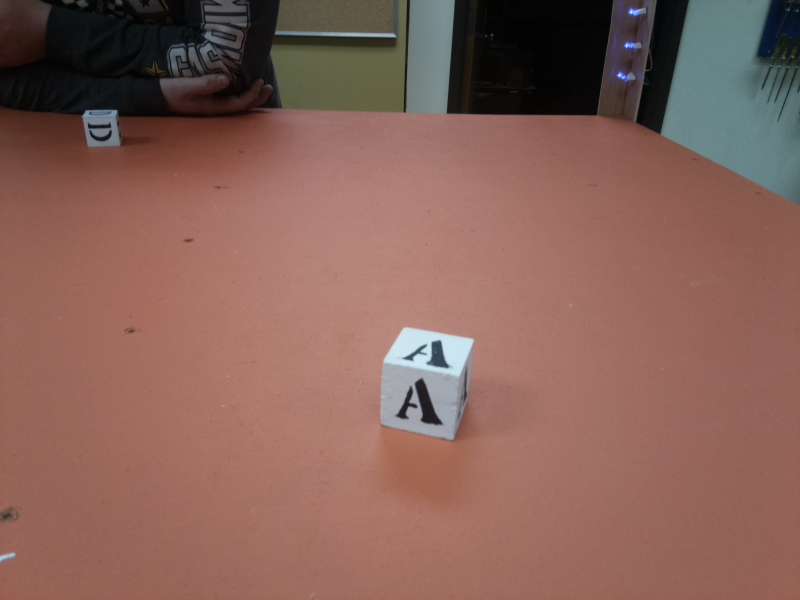blockA: (378, 329, 472, 447)
blockD: (82, 110, 124, 150)
corner: (595, 1, 658, 125)
